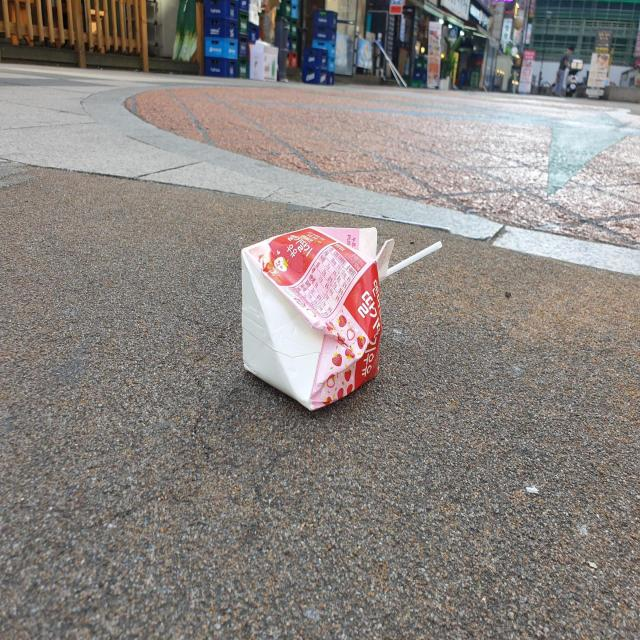paperpack: (242, 226, 394, 410)
